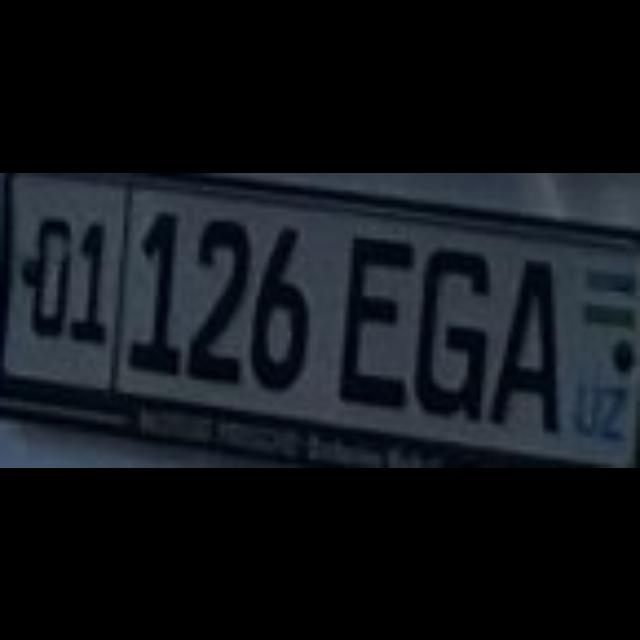0: (26, 212, 66, 336)
1: (124, 208, 176, 370), (66, 216, 106, 340)
2: (181, 212, 247, 380)
6: (248, 220, 304, 388)
A: (486, 256, 552, 428)
E: (336, 230, 410, 406)
G: (414, 242, 486, 420)
